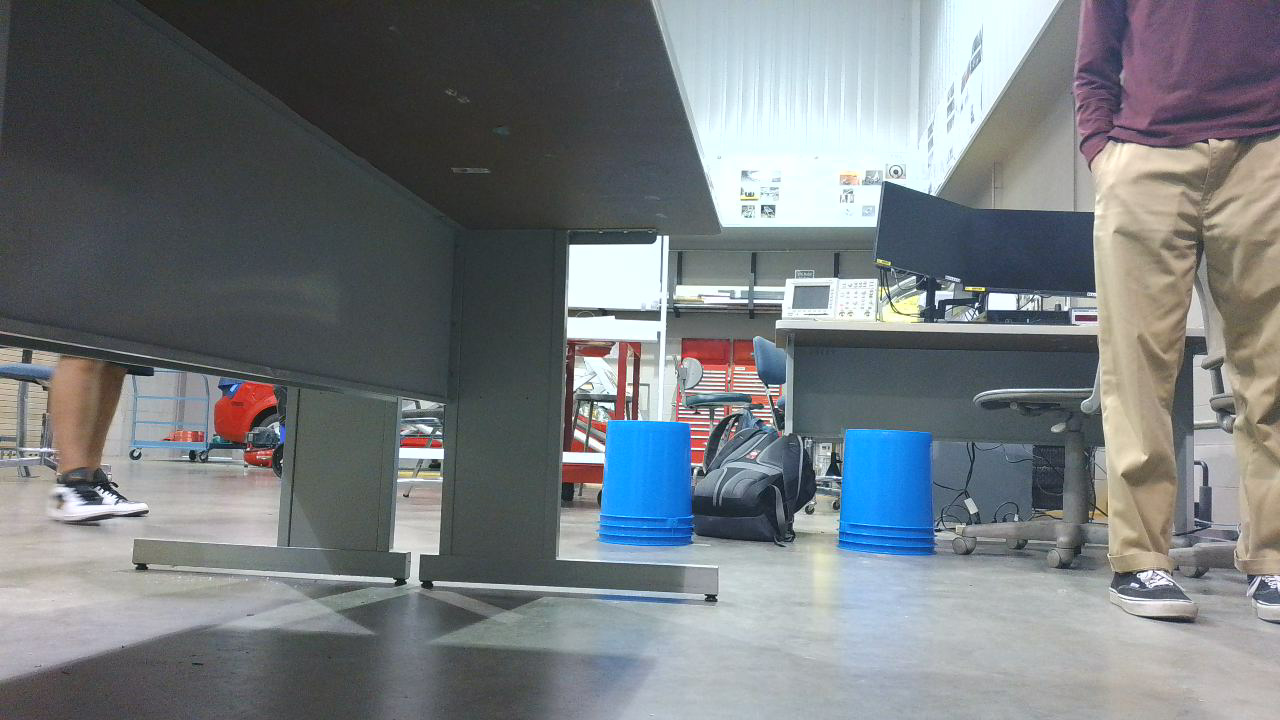blue_bucket: (600, 424, 702, 553), (841, 432, 943, 559)
